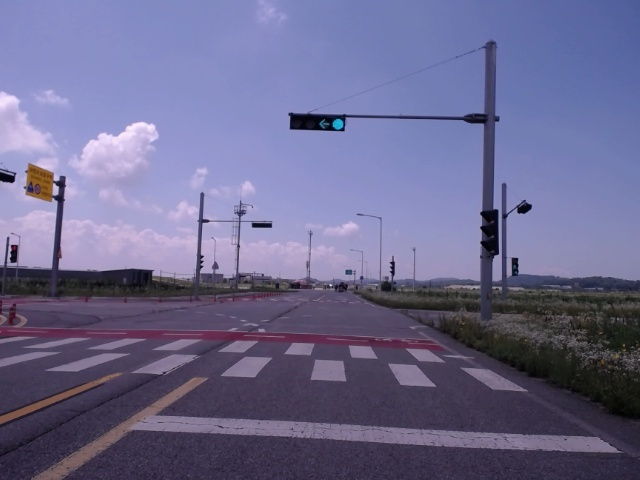all_green_4: (286, 112, 348, 131)
